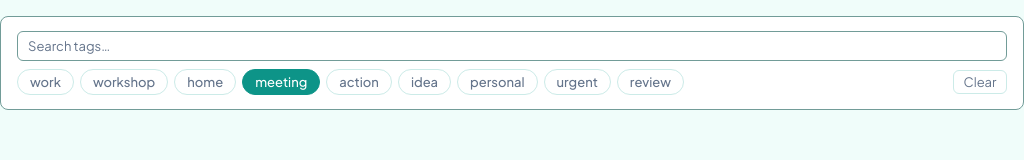
Test case: TagFilter — tag-search box (CHANGE-18) › keeps a selected tag selected even when the search hides it
# …searching "wo" hides it, but Clear (acting on all selected tags) stays present
Type "wo" into the field with test id "tag-filter-search" at (512, 46), box top-left (17, 31), bottom-right (1007, 61)
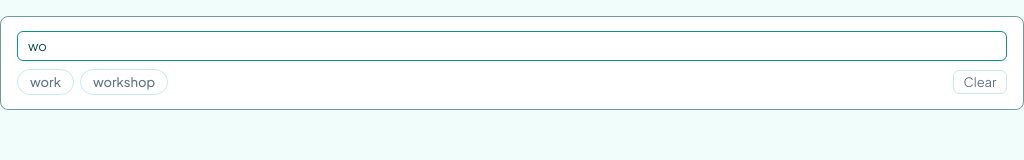
Expected: the button with test id "tag-filter-clear" is shown, top-left (953, 70), bottom-right (1007, 94)
Result: the button with test id "tag-filter-pill-meeting" is gone
